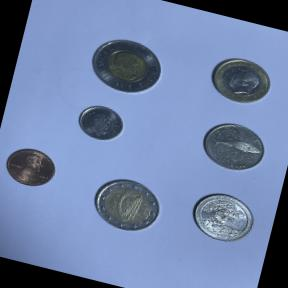1 Euro-B: (202, 49, 278, 113)
2 Euro-B: (84, 170, 168, 240)
Canada-10cent-B: (71, 98, 131, 148)
Canada-2Dollar-B: (82, 31, 170, 104)
Croatia-2Kune-B: (194, 112, 272, 179)
US-1cent-B: (0, 139, 62, 194)
US-25cent-B: (184, 184, 262, 252)
